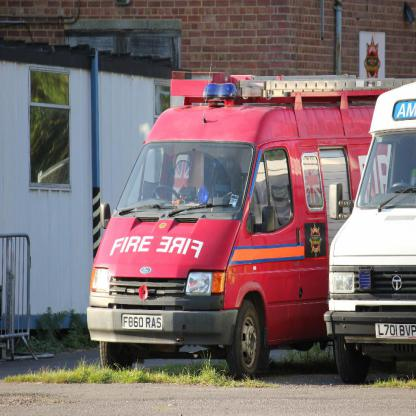Ambulance: (322, 80, 415, 385)
